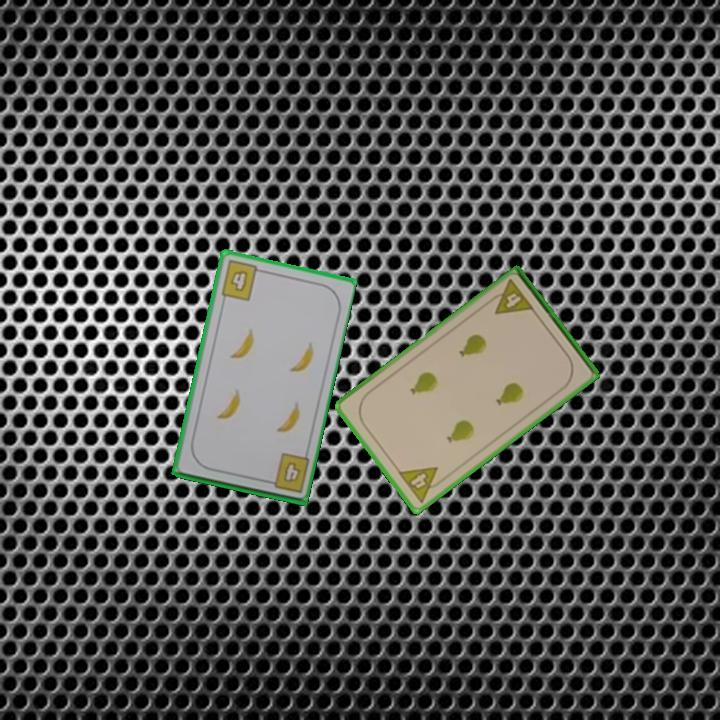4b: (261, 450, 312, 496), (217, 257, 266, 304)
4p: (394, 463, 448, 506), (484, 275, 537, 318)
